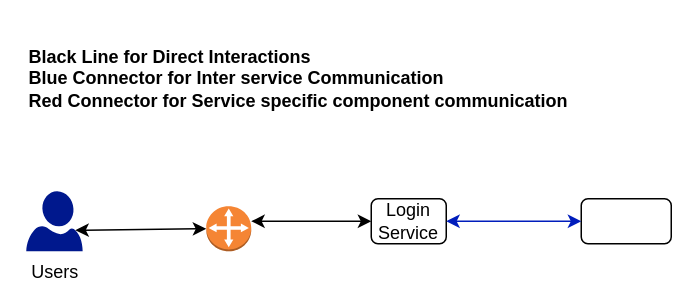
The diagram is 698 pixels wide and 308 high, and some of its shapes have lost their labels. Each missing label, with the centre of its shape:
"HAProxy Ingress Gateway" belongs at (228,228).
"User Service" belongs at (625,220).
